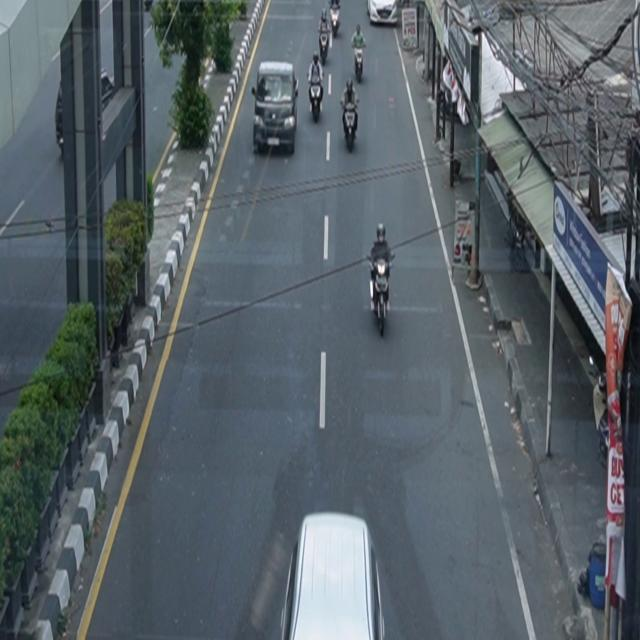car: (281, 512, 386, 640), (252, 62, 300, 155), (367, 1, 398, 26)
